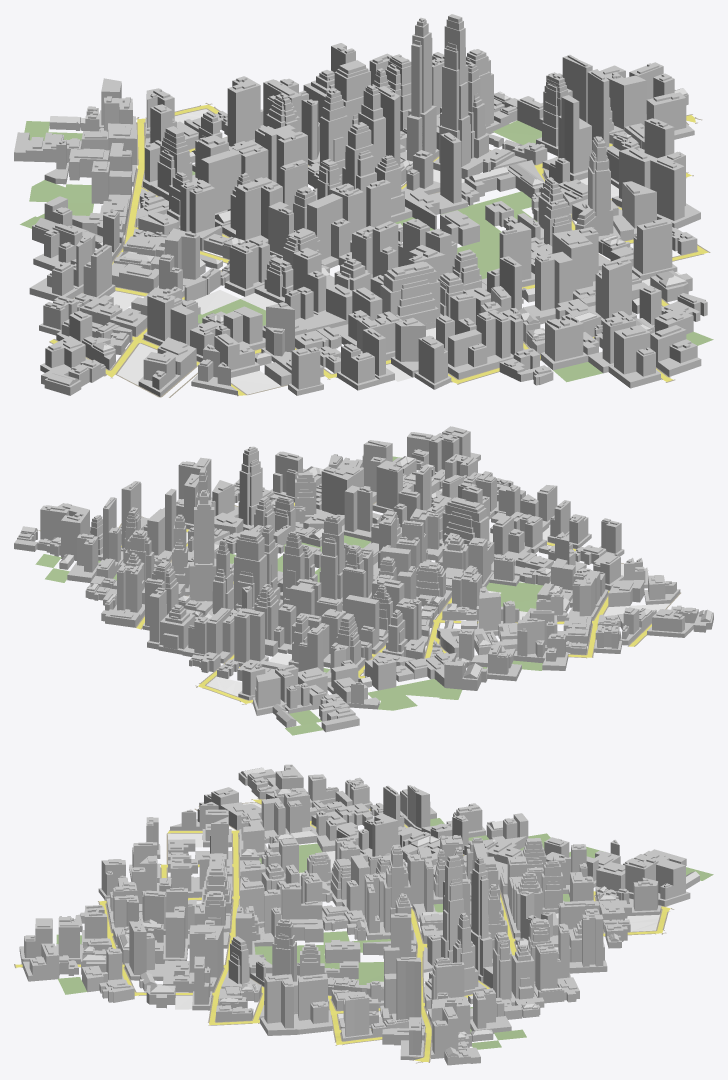
The model's file is schematic_city_0.fbx.
3 views of the same model, one above another, from view 1: azimuth 30°, elevation 25°; view 2: azimuth 150°, elevation 25°; view 3: azimuth 270°, elevation 25° (orthographic). The views are drawn at different scales.
Parts seen in each view (by area): view 1: CityEngineMaterial_2_m, CityEngineMaterial_3_m, CityEngineShapeMaterial_m, CityEngineMaterial_m, CityEngineMaterial_1_m; view 2: CityEngineMaterial_2_m, CityEngineMaterial_3_m, CityEngineMaterial_m, CityEngineShapeMaterial_m, CityEngineMaterial_1_m; view 3: CityEngineMaterial_2_m, CityEngineMaterial_m, CityEngineMaterial_3_m, CityEngineMaterial_1_m, CityEngineShapeMaterial_m.
Boxes of the visible parts, x1,y1,x2,y2 form: CityEngineMaterial_2_m: (14, 14, 707, 396); CityEngineMaterial_3_m: (20, 120, 713, 382); CityEngineShapeMaterial_m: (109, 109, 680, 394); CityEngineMaterial_m: (50, 104, 708, 395); CityEngineMaterial_1_m: (49, 103, 710, 397); CityEngineMaterial_2_m: (14, 426, 713, 732); CityEngineMaterial_3_m: (35, 456, 543, 735); CityEngineMaterial_m: (121, 503, 651, 703); CityEngineShapeMaterial_m: (186, 527, 669, 696); CityEngineMaterial_1_m: (38, 501, 680, 704); CityEngineMaterial_2_m: (19, 764, 699, 1065); CityEngineMaterial_m: (15, 799, 670, 1061); CityEngineMaterial_3_m: (56, 818, 713, 1049); CityEngineMaterial_1_m: (14, 798, 674, 1063); CityEngineShapeMaterial_m: (157, 802, 659, 1020).
Size of the model in its own units: 1110 by 221 by 1079.
